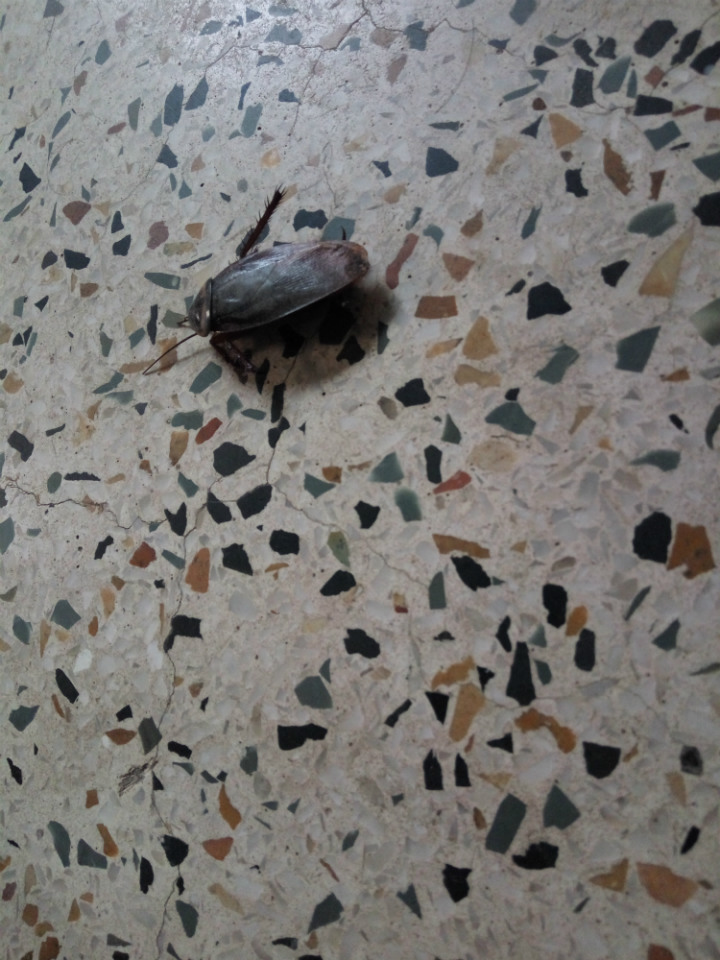cockroach: (88, 181, 501, 466)
